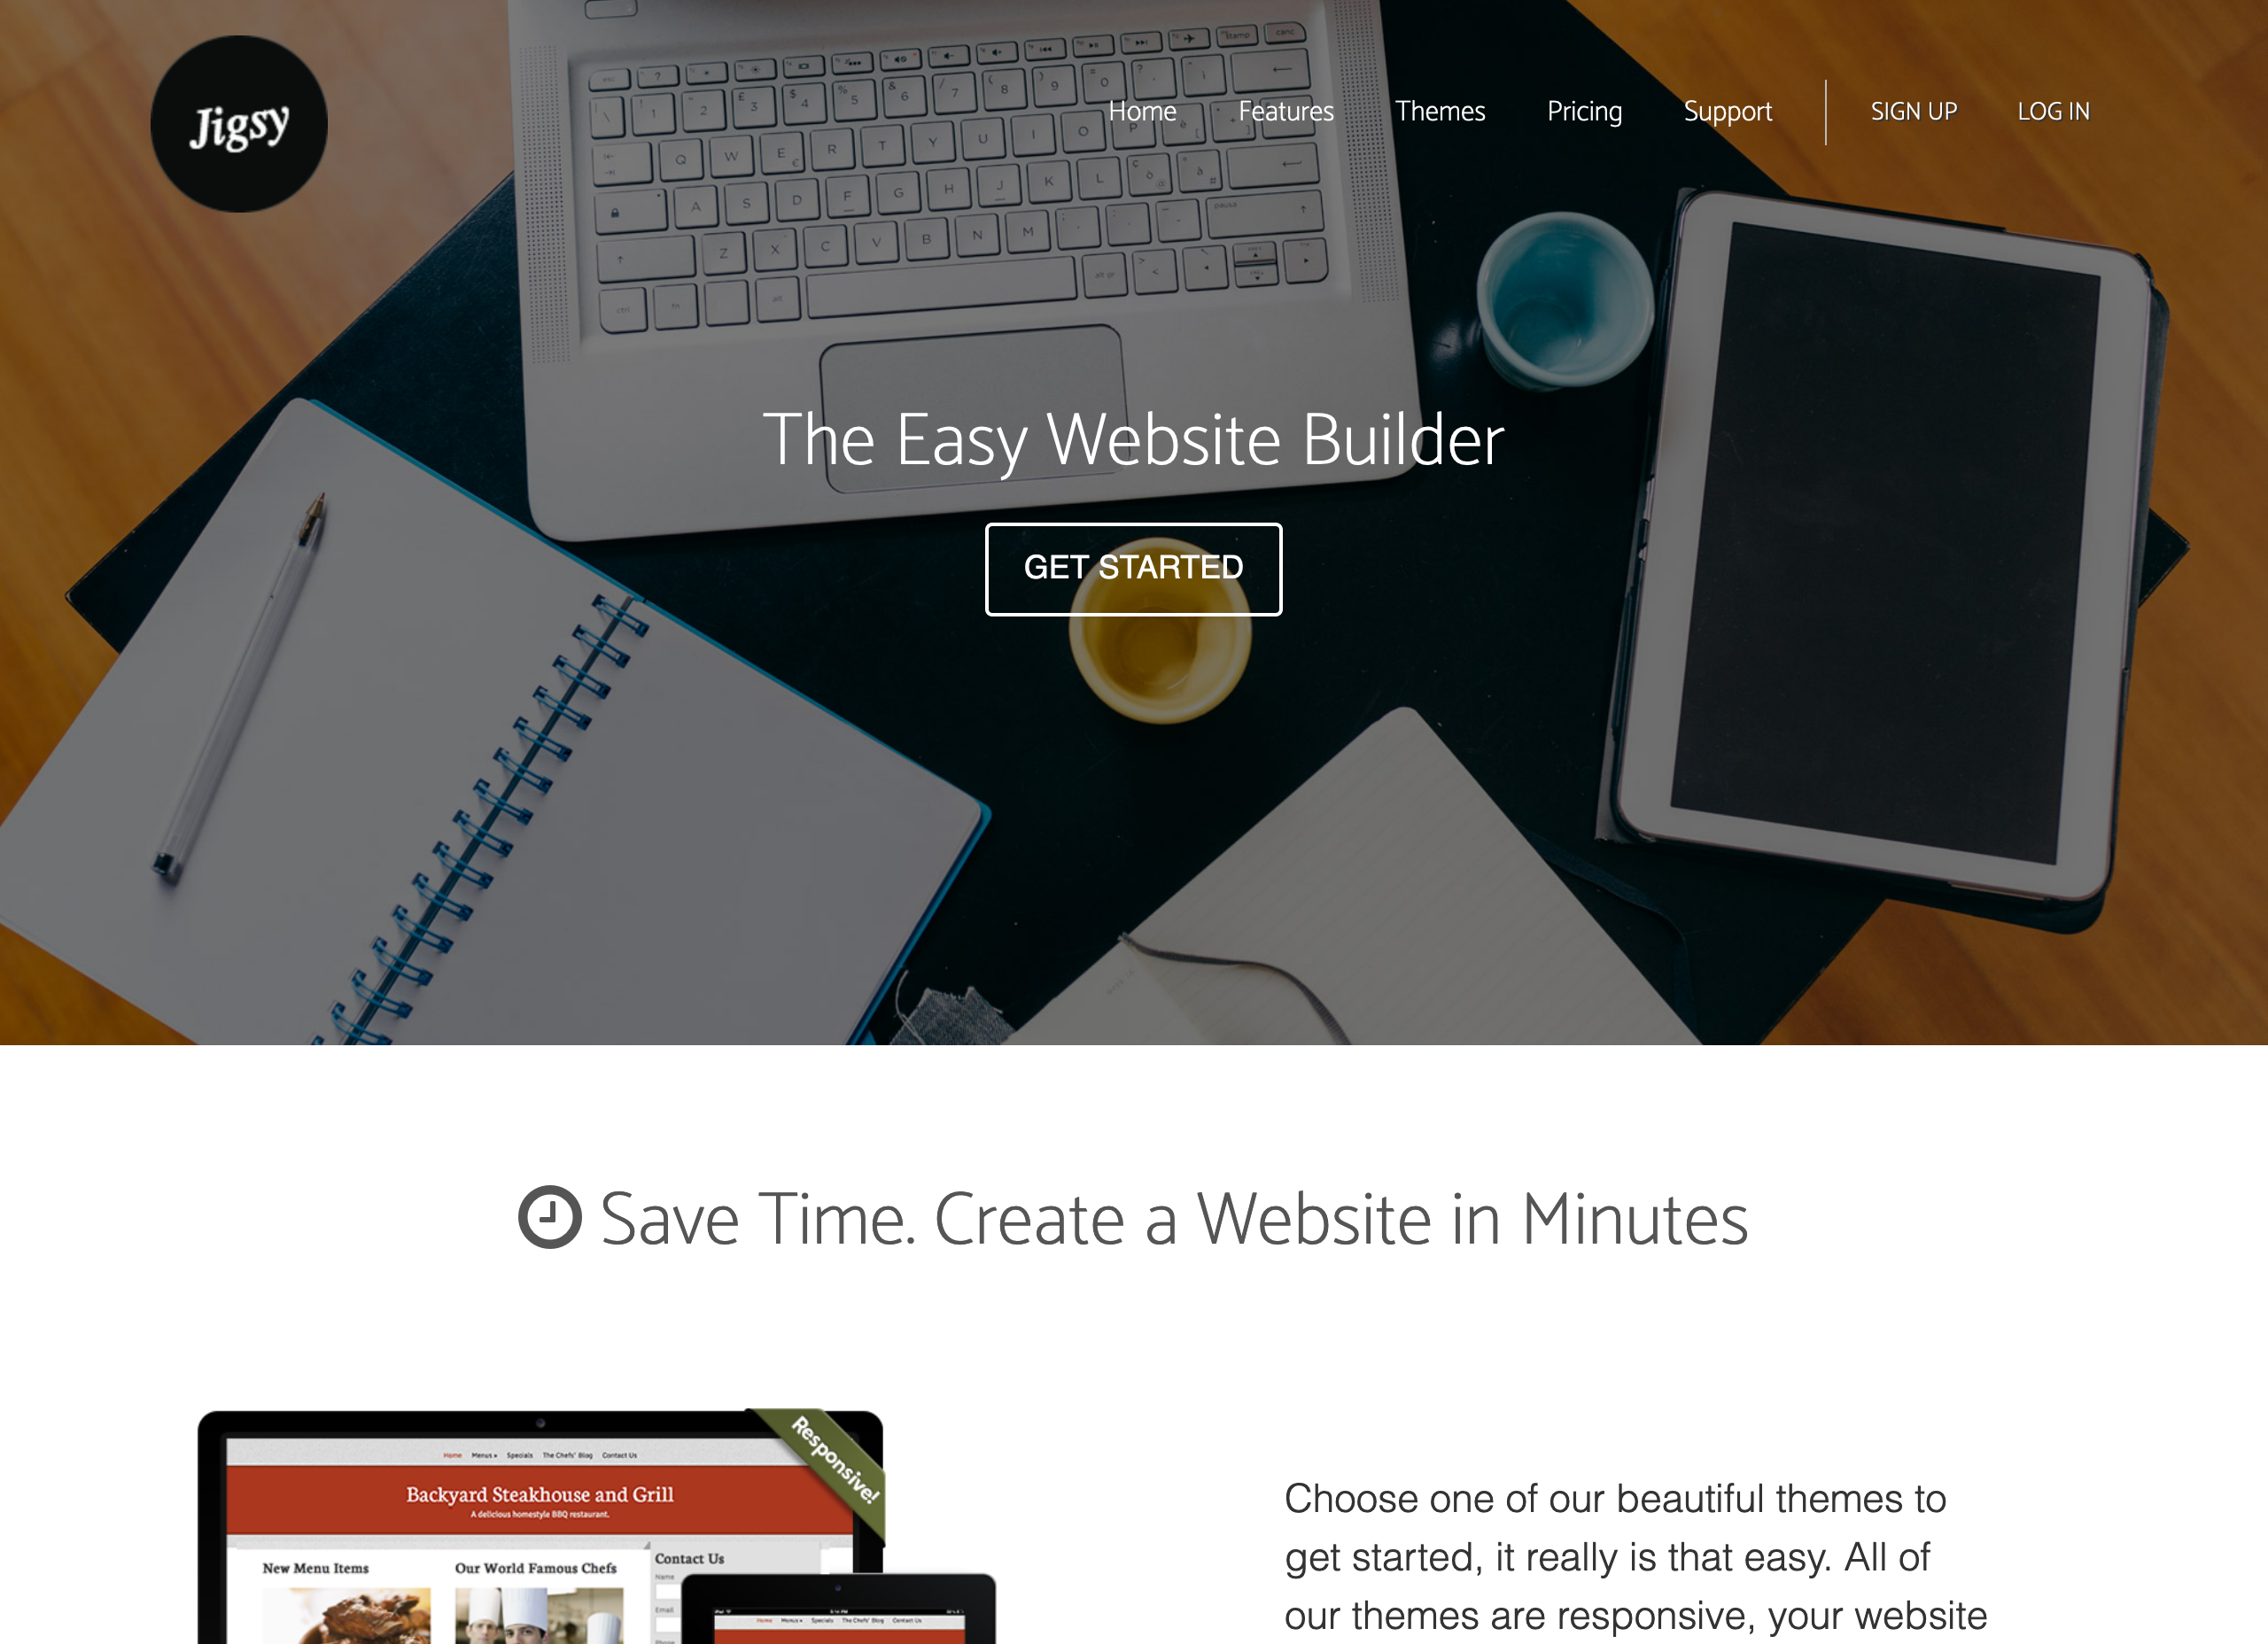Login: (2004, 76, 2108, 144)
